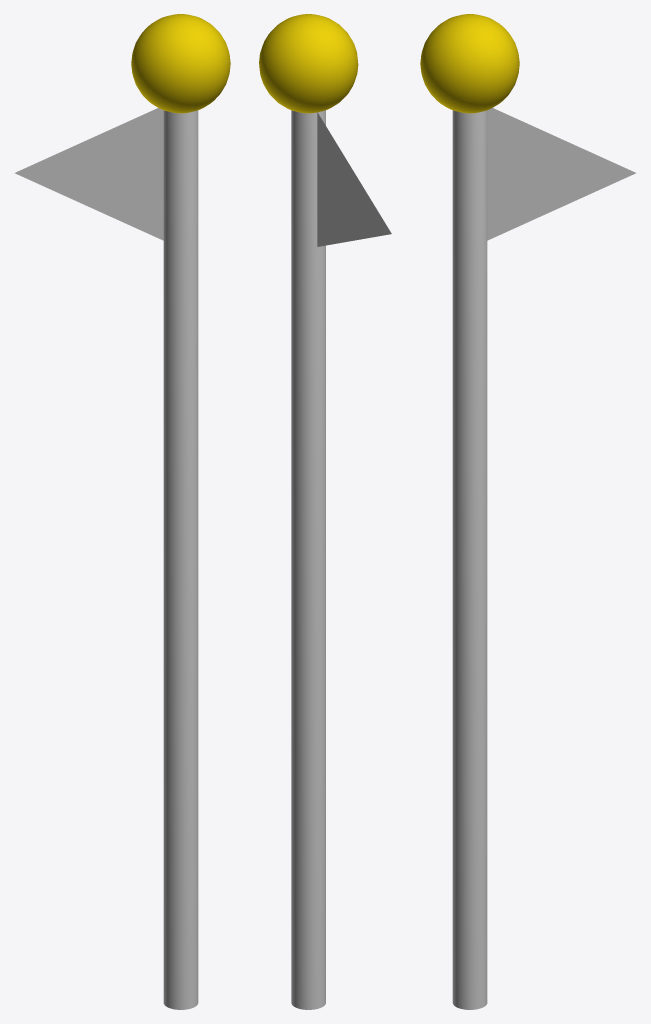
The model's file is ExportedBlenderFBXFile.fbx.
3 views of the same model, side by side, from view 1: azimuth 90°, elevation 25°; view 2: azimuth 210°, elevation 25°; view 3: azimuth 270°, elevation 25° (orthographic).
Parts seen in each view (by area): view 1: Column, Flag, FInial; view 2: Column, FInial, Flag; view 3: Column, Flag, FInial.
Boxes of the visible parts, x1,y1,x2,y2 form: Column: (163, 110, 198, 1009); Flag: (14, 108, 163, 240); FInial: (131, 14, 230, 113); Column: (291, 110, 325, 1009); FInial: (259, 14, 358, 113); Flag: (317, 112, 391, 246); Column: (452, 110, 487, 1009); Flag: (487, 108, 636, 240); FInial: (420, 14, 519, 113).
Bounding box in the file's own units: 4 × 43.65 × 8.7.
